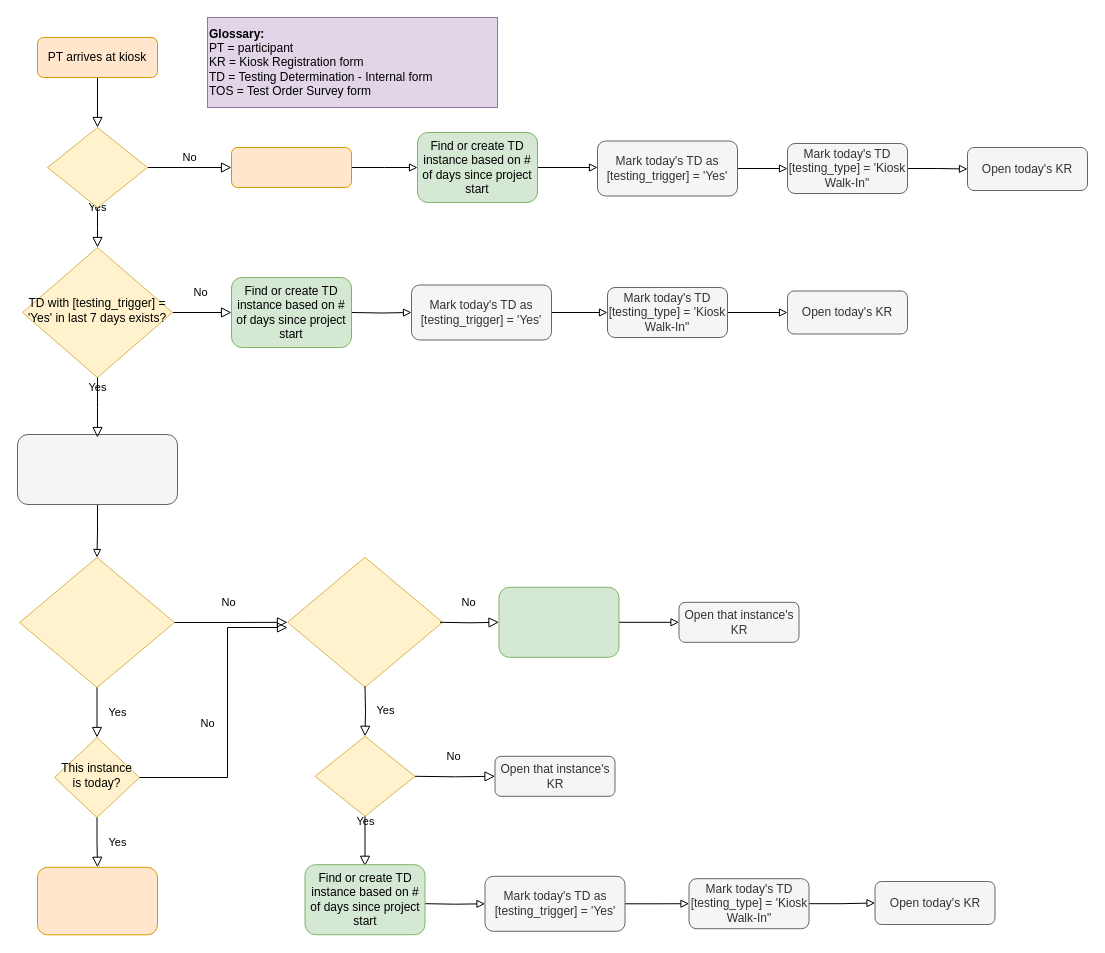
Some shapes in this 1105 by 953 pixel diagram are drawn without their labels. Here are the shapes that lost their labels. From the top down, the centre of each, then its label:
(97,167): Already registered?
(291,167): Register PT
(97,469): Find most recent TD instance with [testing_trigger] = 'Yes'
(96,622): TOS exists and is marked complete on or after this instance?
(364,621): KR exists on or after this instance?
(558,621): Create KR for that instance
(364,775): KR is complete?
(97,900): Turn away PT. We don't want two tests in one day.
